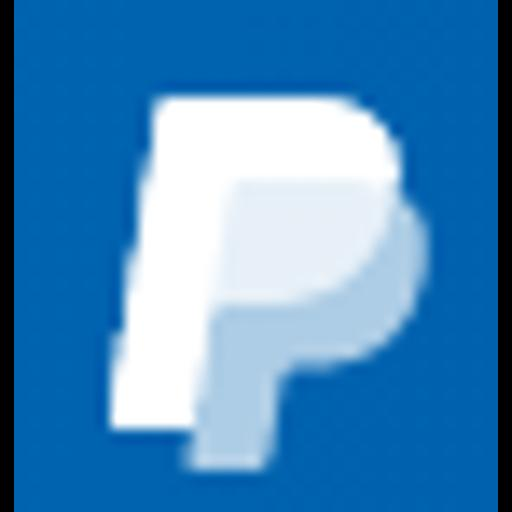PayPal: (14, 0, 498, 512)
